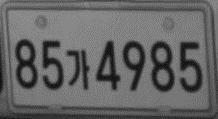4: (94, 39, 121, 90)
5: (178, 41, 203, 92), (41, 39, 64, 90)
8: (149, 40, 175, 92), (14, 37, 37, 89)
9: (122, 39, 146, 92)
가: (65, 48, 90, 90)
